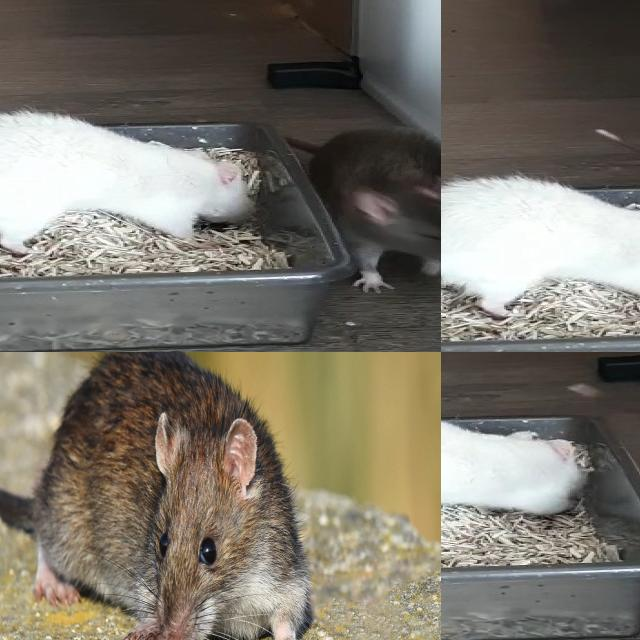rat: (31, 352, 310, 640), (0, 114, 270, 263), (441, 178, 640, 316), (309, 124, 441, 292), (441, 410, 585, 540)
